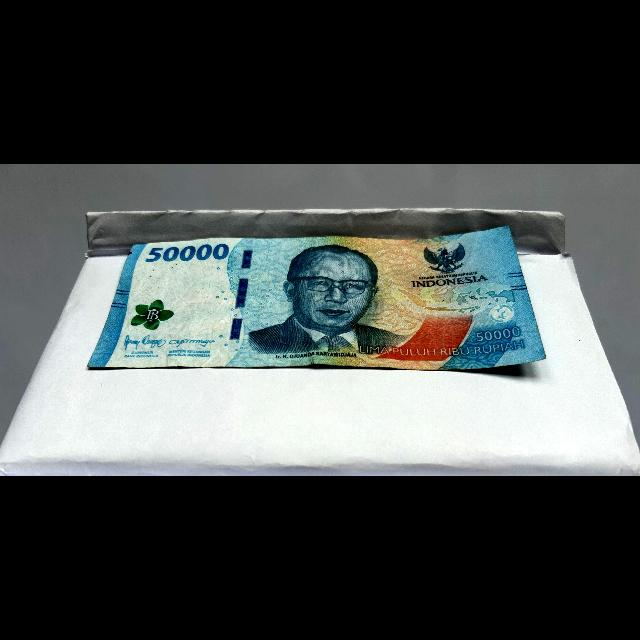Palsu-50k: (82, 224, 552, 371)
Tinta-Palsu-50k: (126, 297, 180, 333)
